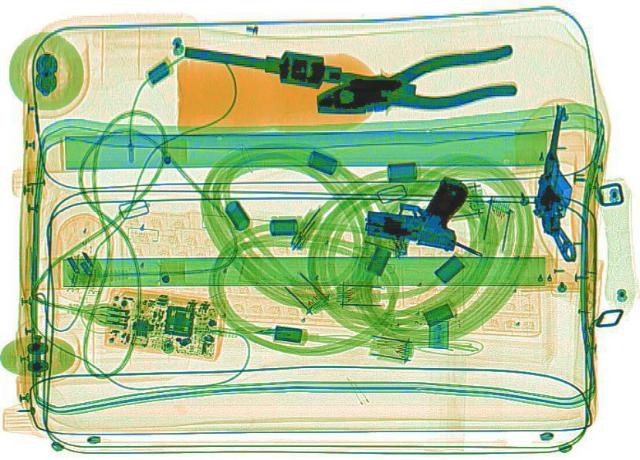Gun: (519, 101, 609, 261), (358, 165, 478, 249)
Pliers: (304, 44, 526, 125)
